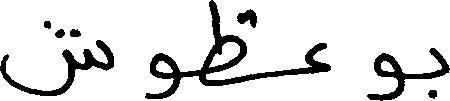X: (0, 16, 114, 100), (204, 0, 245, 90), (370, 48, 403, 100), (147, 48, 179, 100), (430, 43, 449, 100), (305, 38, 330, 78)
